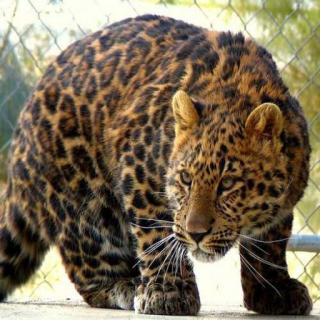Leopard: (19, 45, 320, 309)
